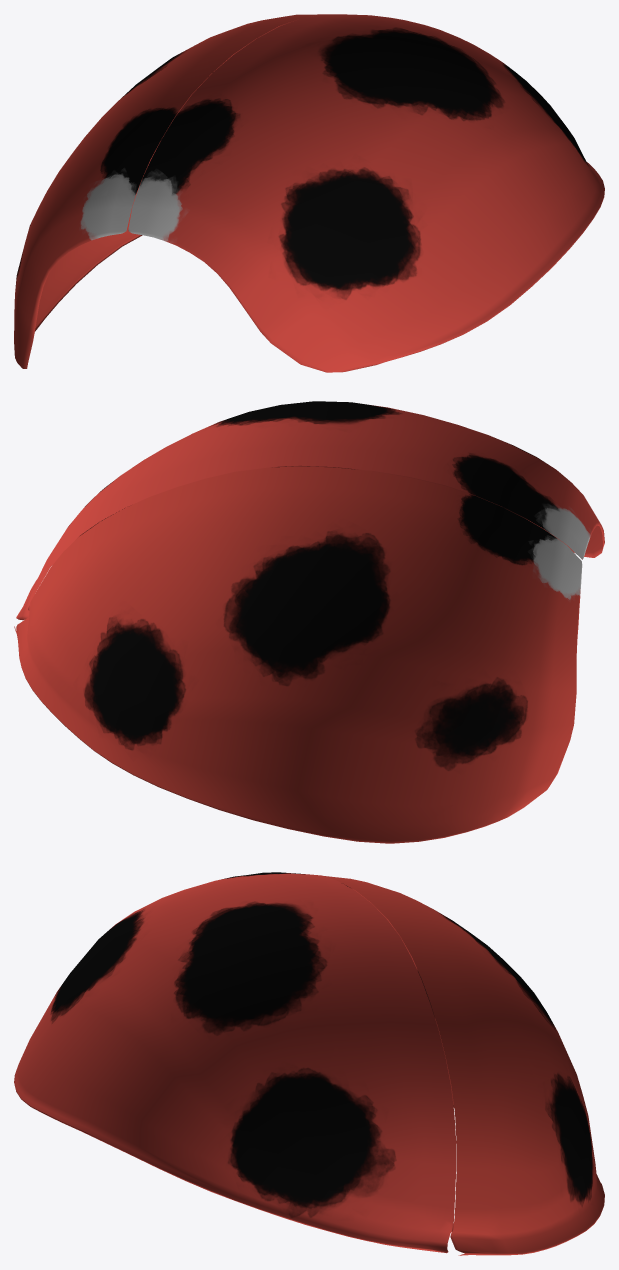
File: ladybug_shell.obj
3 views of the same model, one above another, from view 1: azimuth 30°, elevation 25°; view 2: azimuth 150°, elevation 25°; view 3: azimuth 270°, elevation 25° (orthographic). The views are drawn at different scales.
Parts seen in each view (by area): view 1: dynamic; view 2: dynamic; view 3: dynamic.
Part boxes in pixels (x1,y1,x2,y2): dynamic: [14, 14, 604, 372]; dynamic: [14, 401, 604, 843]; dynamic: [14, 872, 604, 1255].
Size of the model in its own units: 0.3431 by 0.1899 by 0.3206.
Materials: 2 (2 with a texture image).
